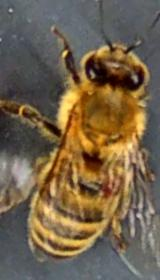varroa_mite: (100, 170, 124, 198)
